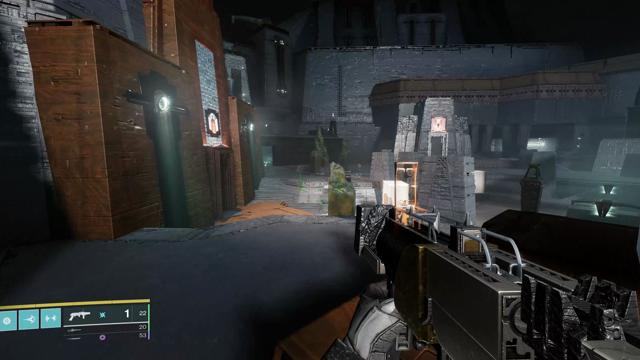give: (433, 119, 443, 129)
worship: (208, 113, 218, 134)
